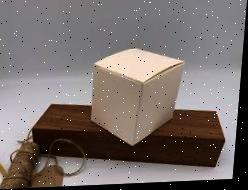cube: (91, 47, 186, 148)
